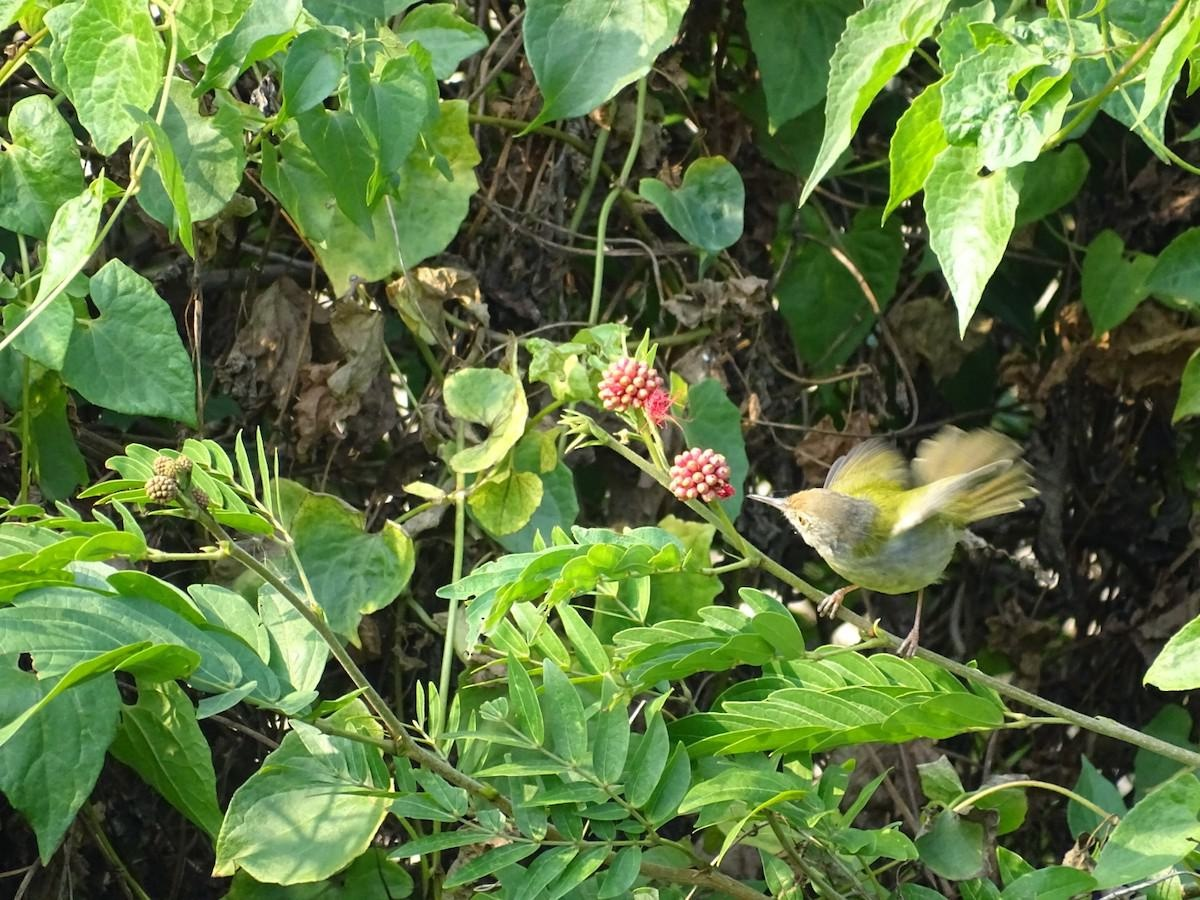tailorbird: (737, 402, 1060, 645)
